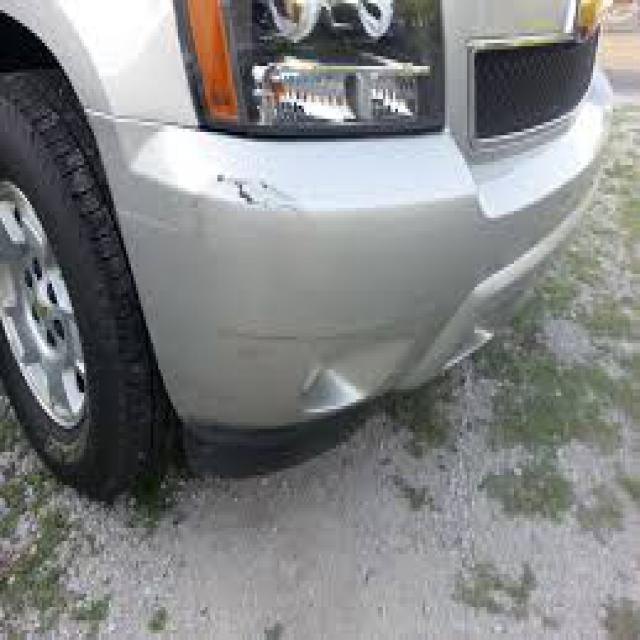front-bumper-dent: (67, 93, 410, 436)
